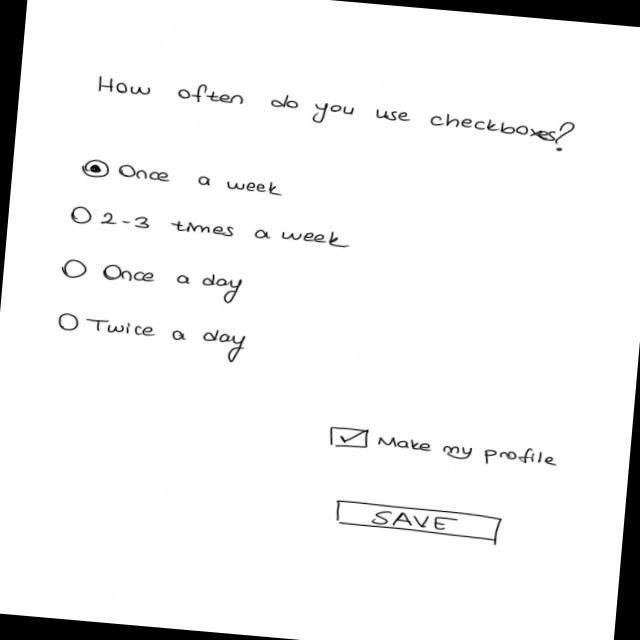button: (332, 498, 507, 544)
checkbox: (326, 425, 562, 473)
label: (93, 74, 579, 157)
radio: (69, 205, 353, 251), (54, 311, 248, 365), (60, 258, 246, 305), (82, 158, 287, 198)
